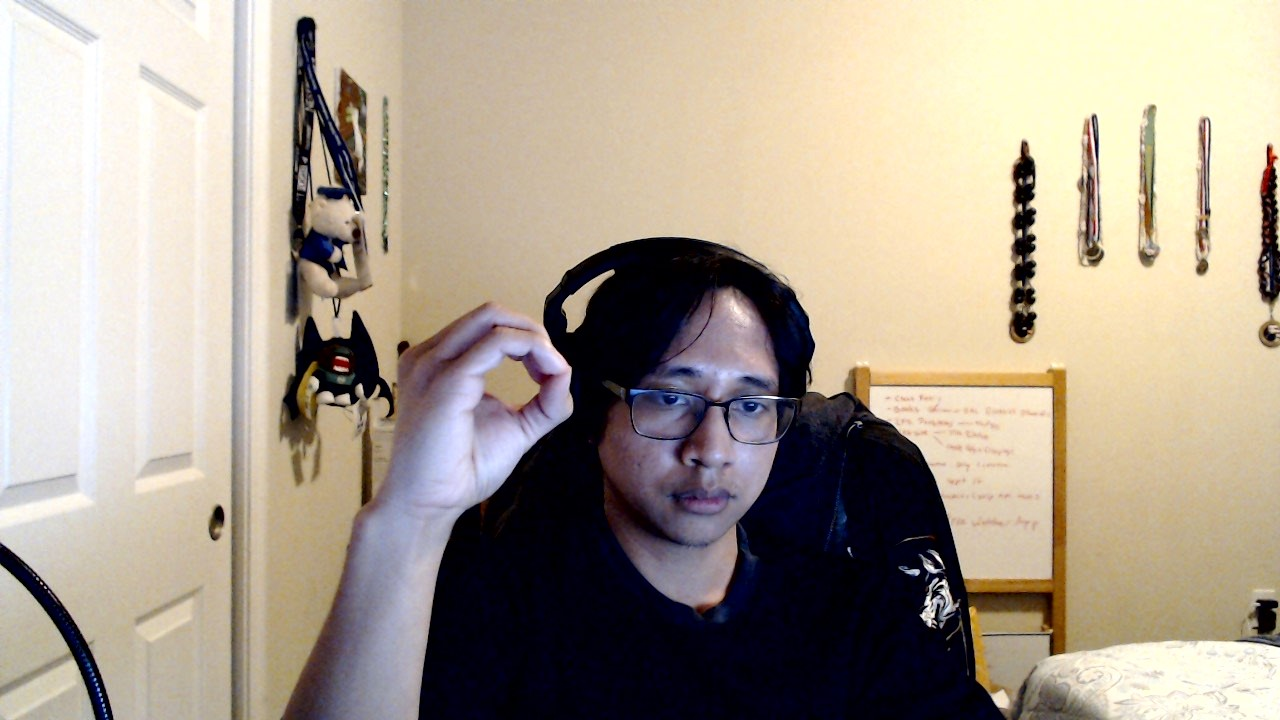o: (358, 300, 575, 508)
